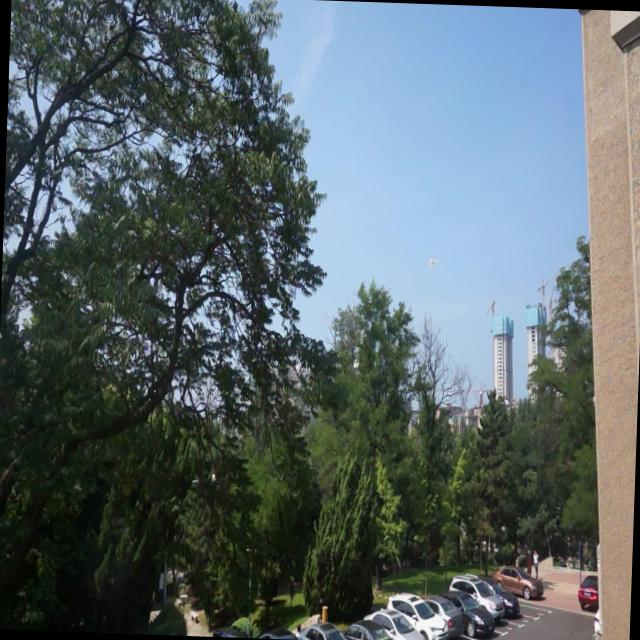drone: (427, 254, 438, 272)
